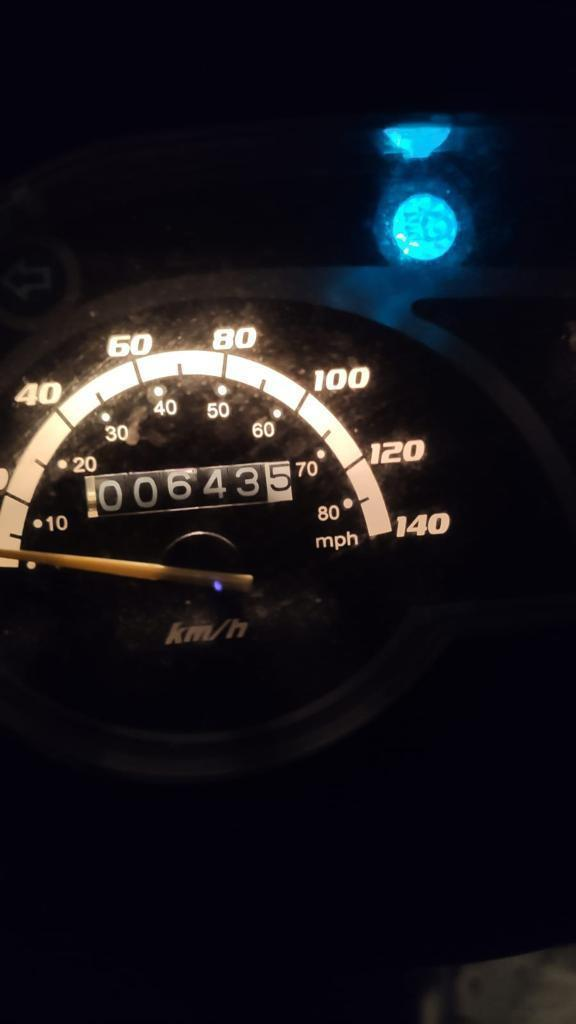0: (133, 475, 158, 508), (98, 479, 123, 512), (84, 455, 98, 472)
3: (234, 465, 260, 497)
4: (202, 468, 226, 499)
5: (268, 463, 290, 491)
6: (166, 470, 192, 501)
odometer: (82, 459, 294, 520)
